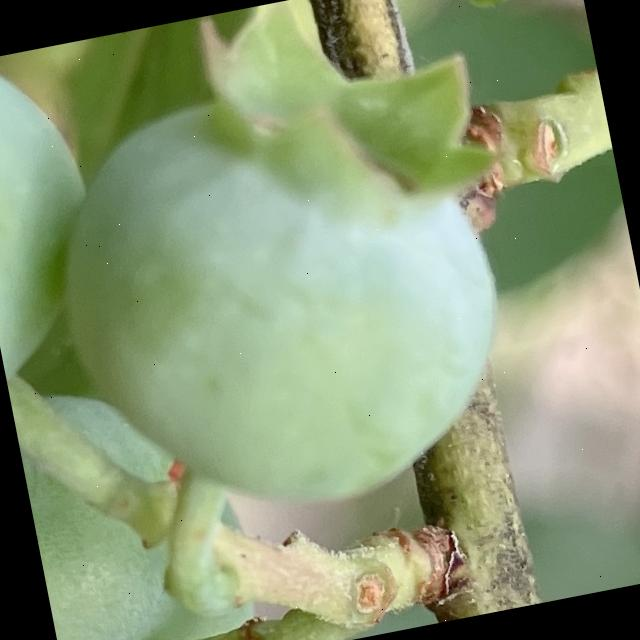Blueberries: (12, 0, 590, 547)
